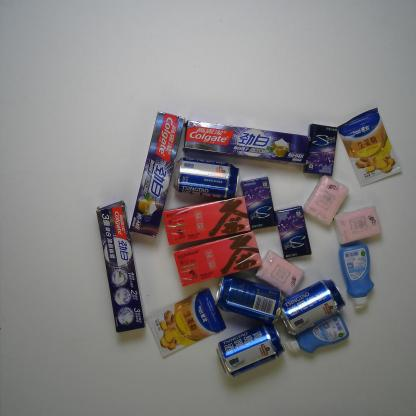Alcohol: (279, 279, 346, 336), (216, 324, 286, 378), (172, 157, 240, 199)
Drink: (214, 276, 284, 325)
Gum: (274, 206, 312, 259), (240, 176, 277, 230), (303, 124, 338, 176)
Instant Drink: (173, 230, 263, 288), (162, 195, 251, 246)
Personal Hygiene: (129, 110, 185, 238), (96, 199, 147, 334), (182, 119, 311, 166), (284, 312, 350, 354), (338, 244, 374, 310)
Seasoner: (145, 288, 226, 358), (337, 107, 402, 188)
Tissue: (302, 175, 350, 226), (254, 250, 305, 297), (333, 205, 382, 245)
